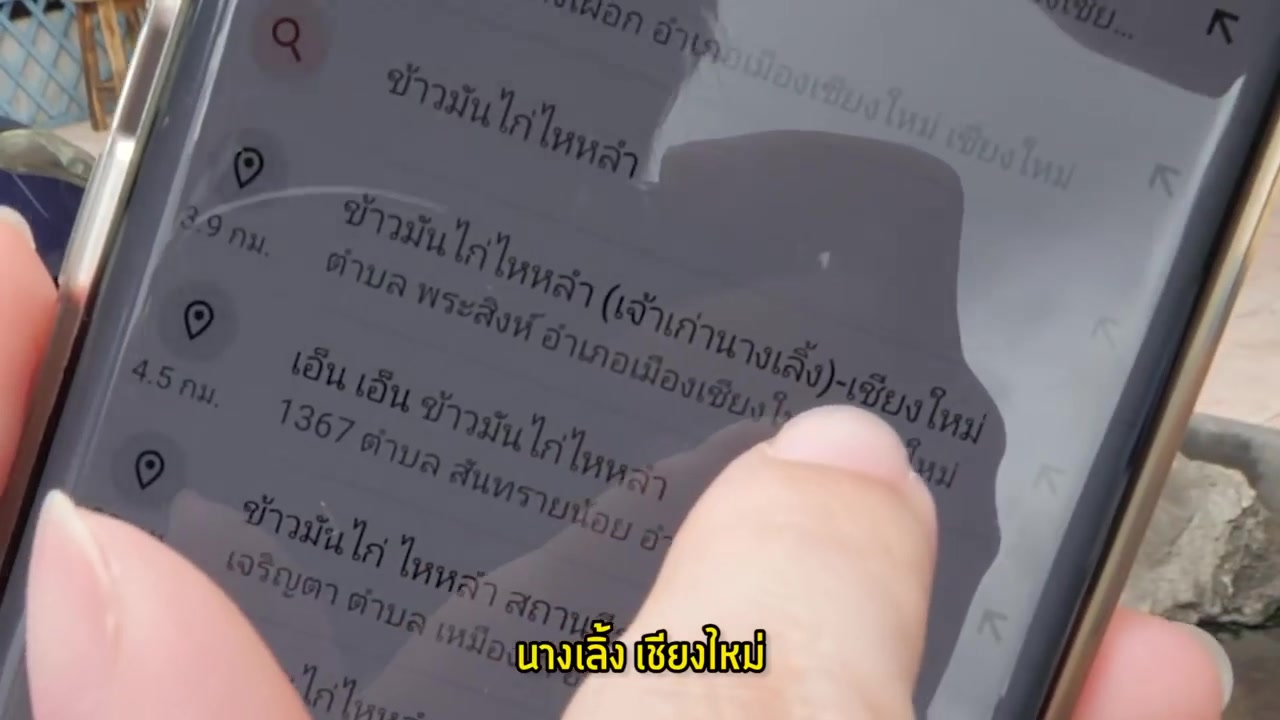text-label: (513, 614, 769, 678)
